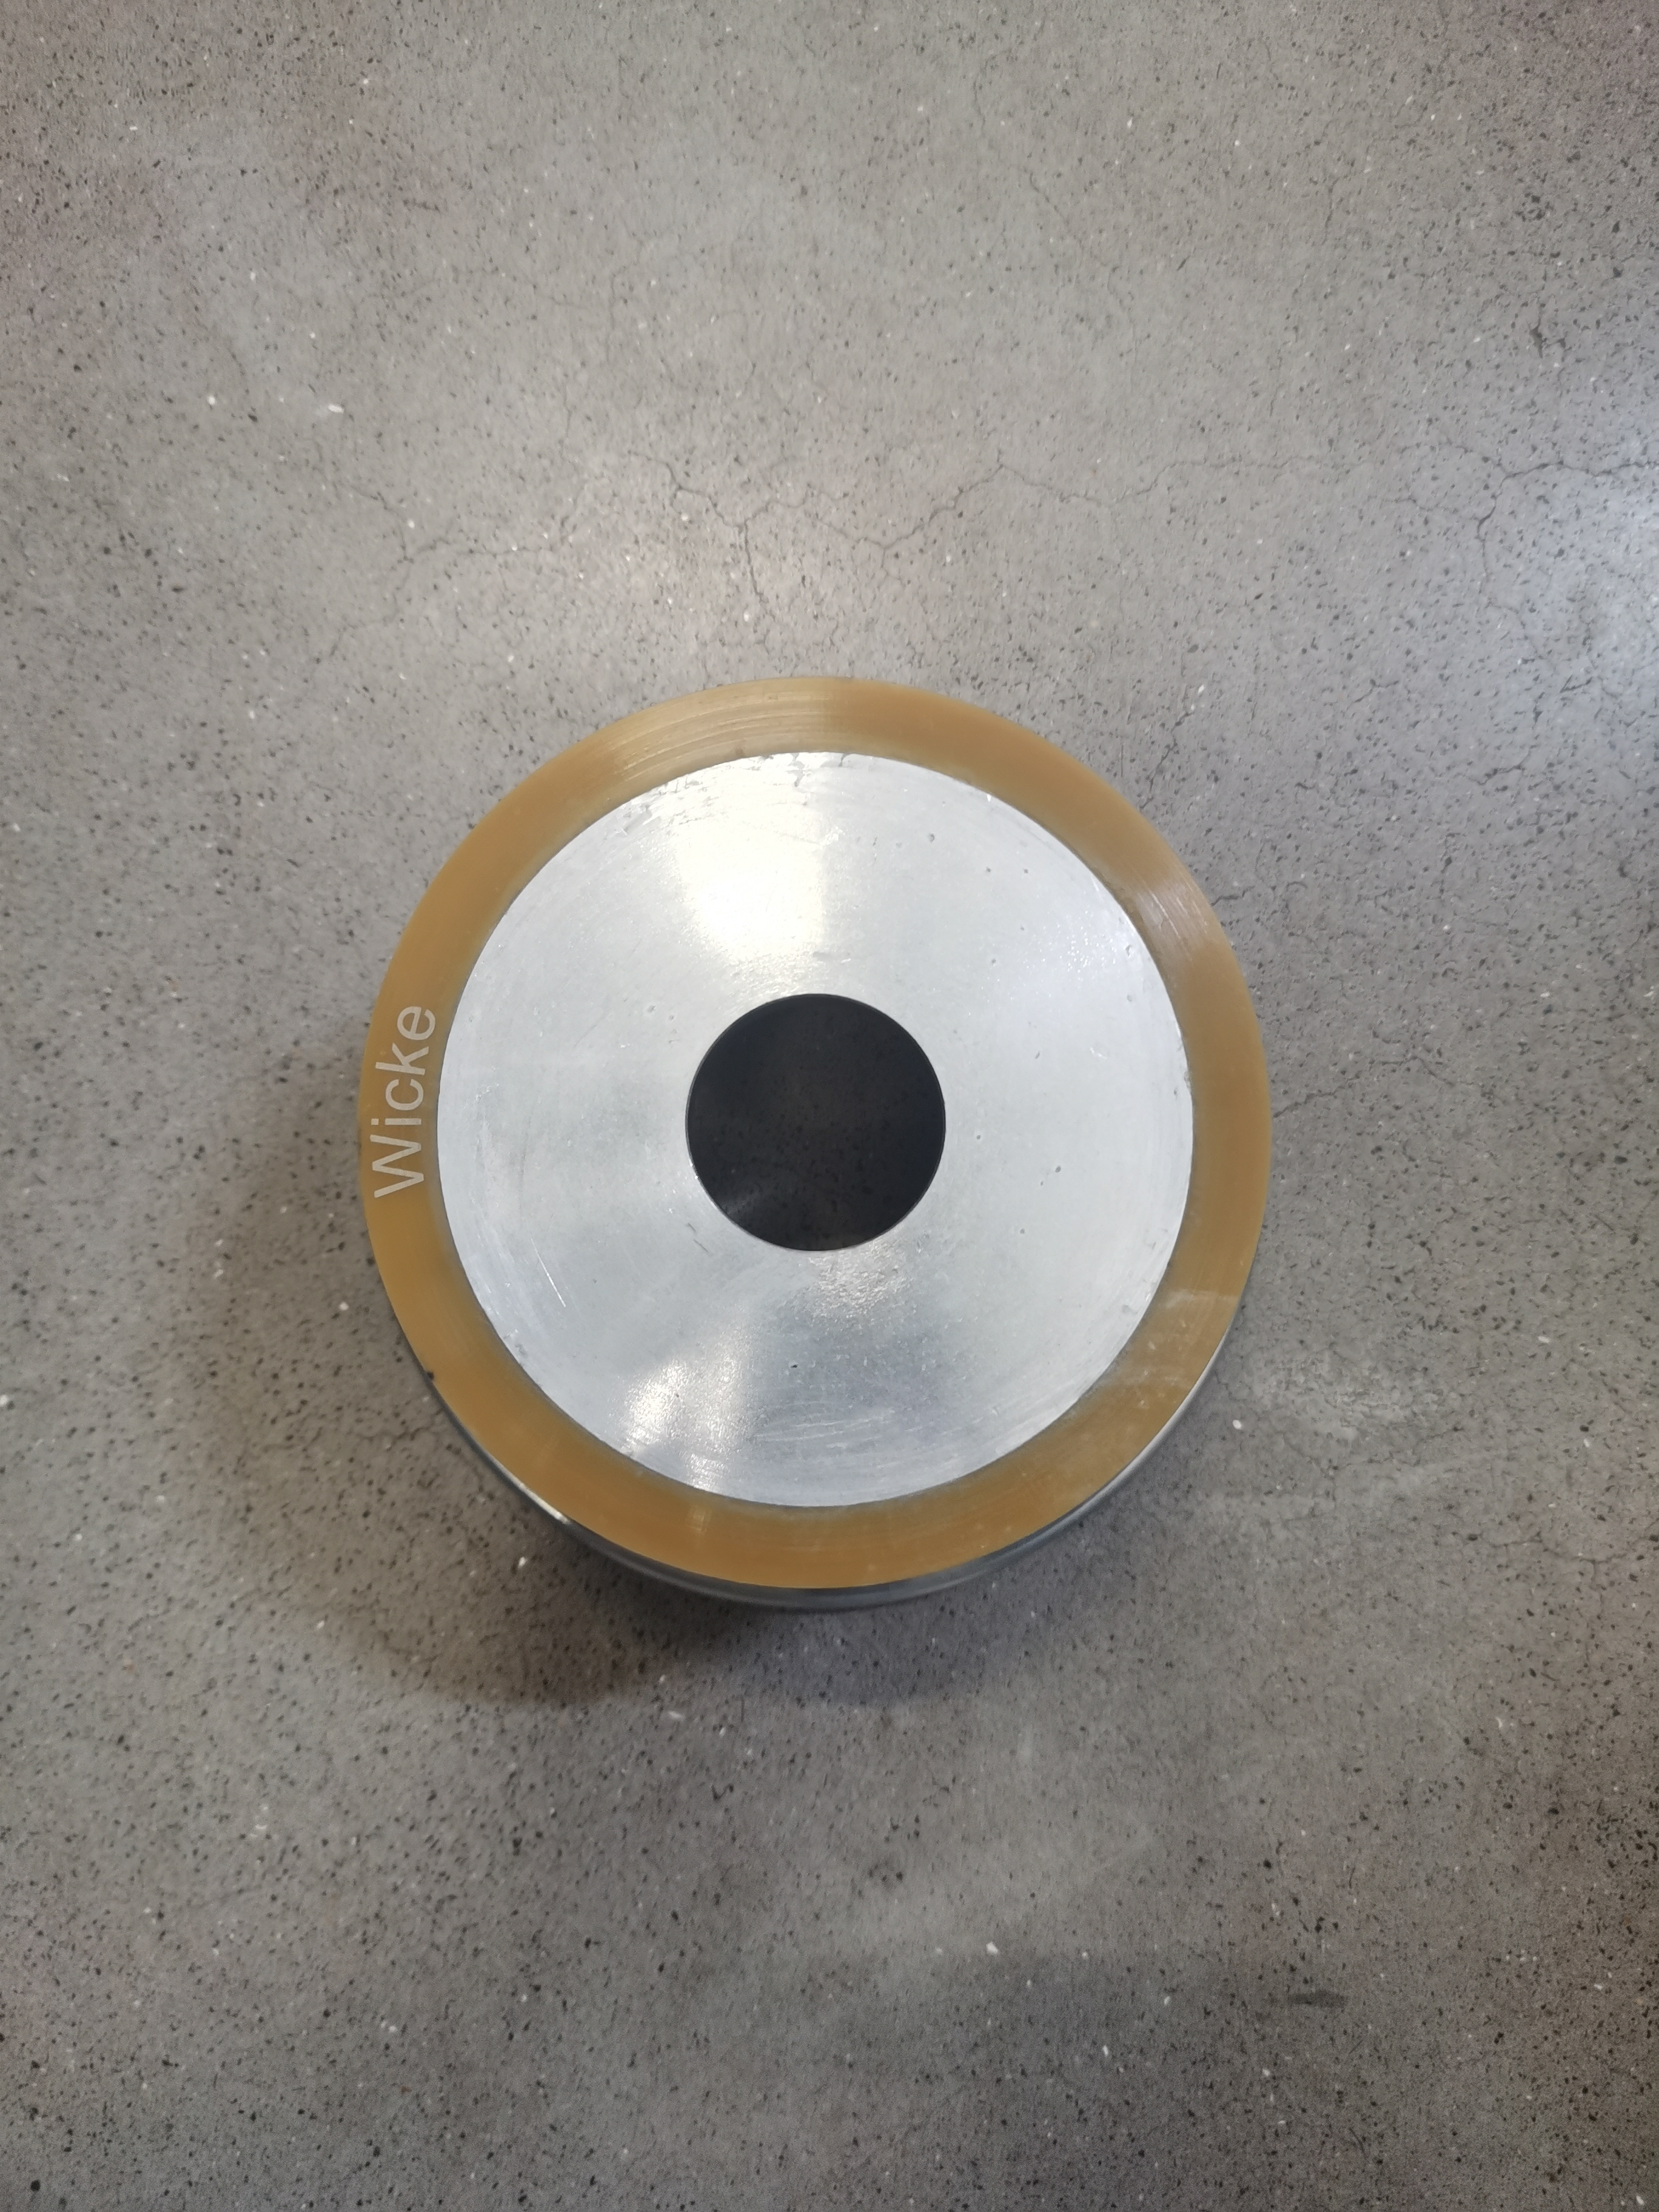good_wheel: (310, 643, 1323, 1644)
